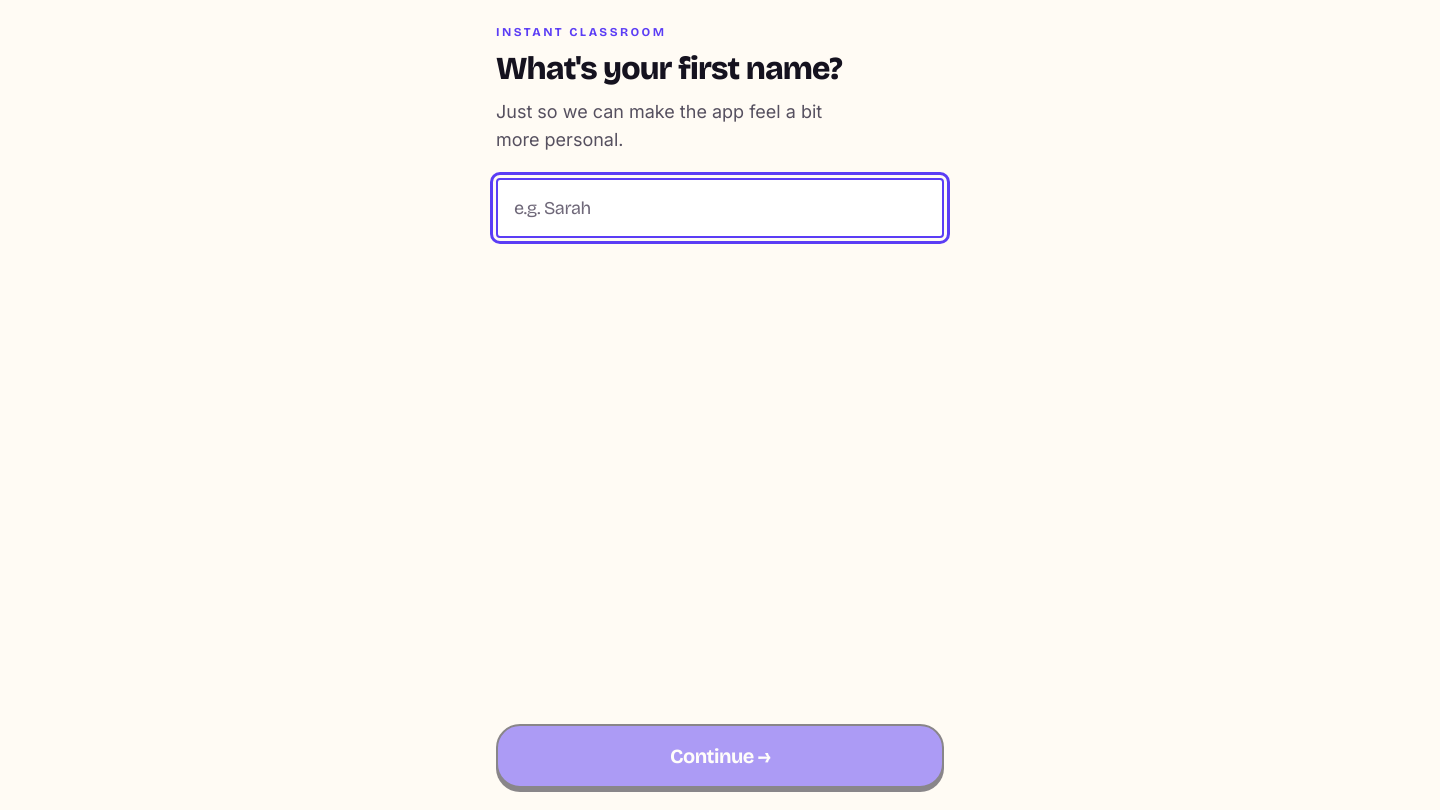
Scenario: HomeScreen › the guided tour › starts the tour on the first tile, without firing an activity
The image size is (1440, 810).
Type "Sarah" into the field named "First name".
click(720, 208); type("Sarah")  # box [496, 178, 944, 238]
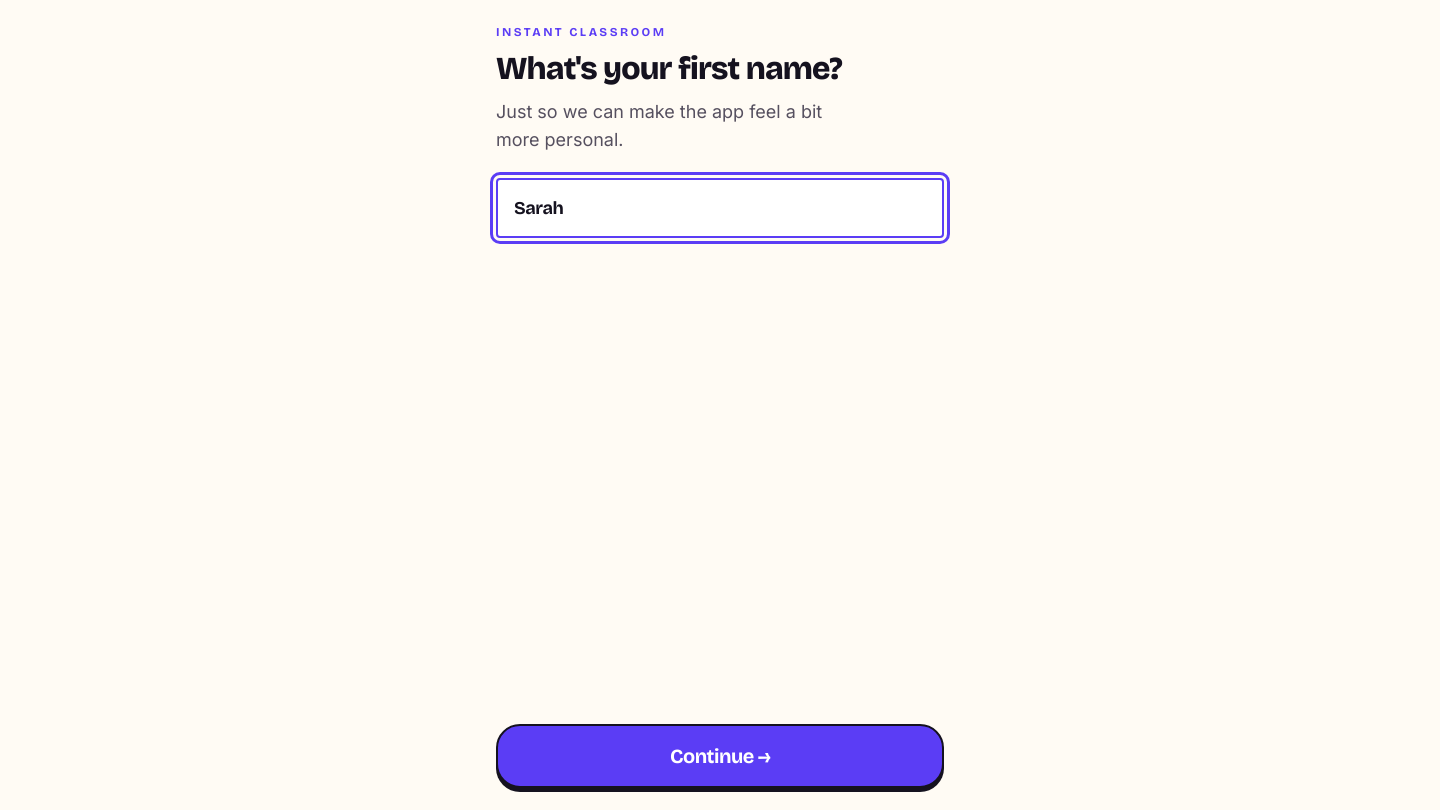
Click the button "Continue →".
click(720, 756)  # box [496, 724, 944, 788]
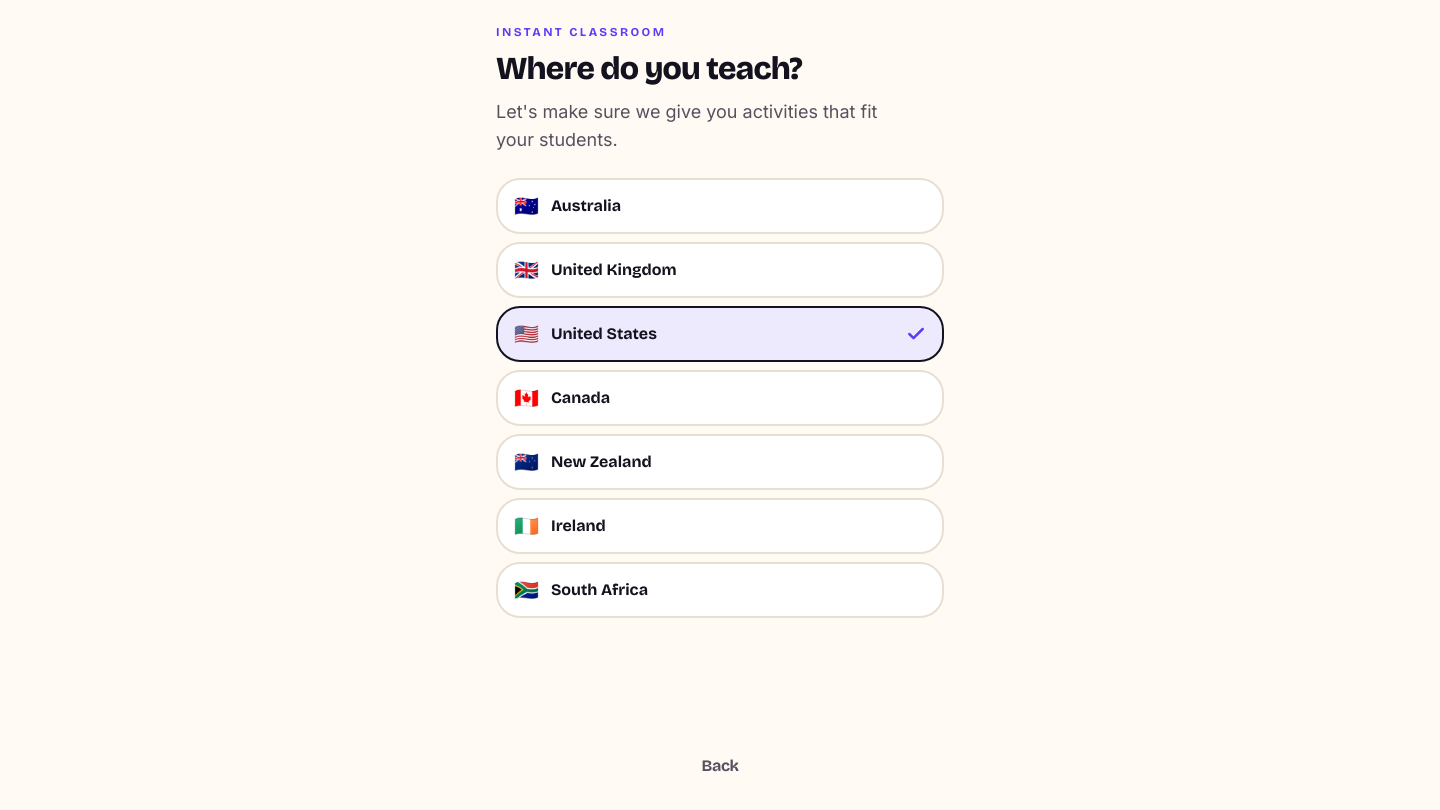
Click the button "🇦🇺 Australia".
click(586, 205)  # box [496, 178, 944, 234]
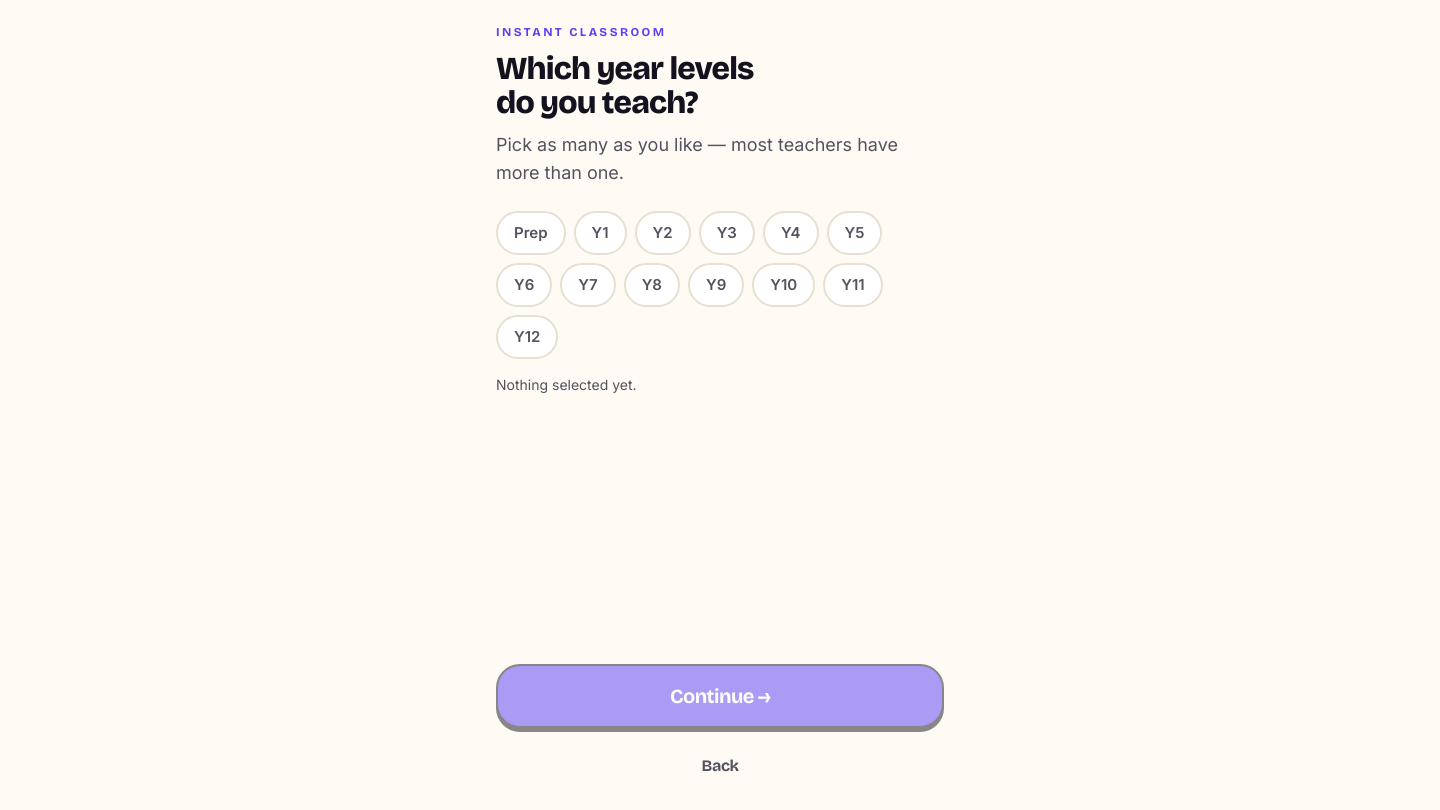
Click the button "Prep".
click(531, 233)  # box [496, 211, 566, 255]
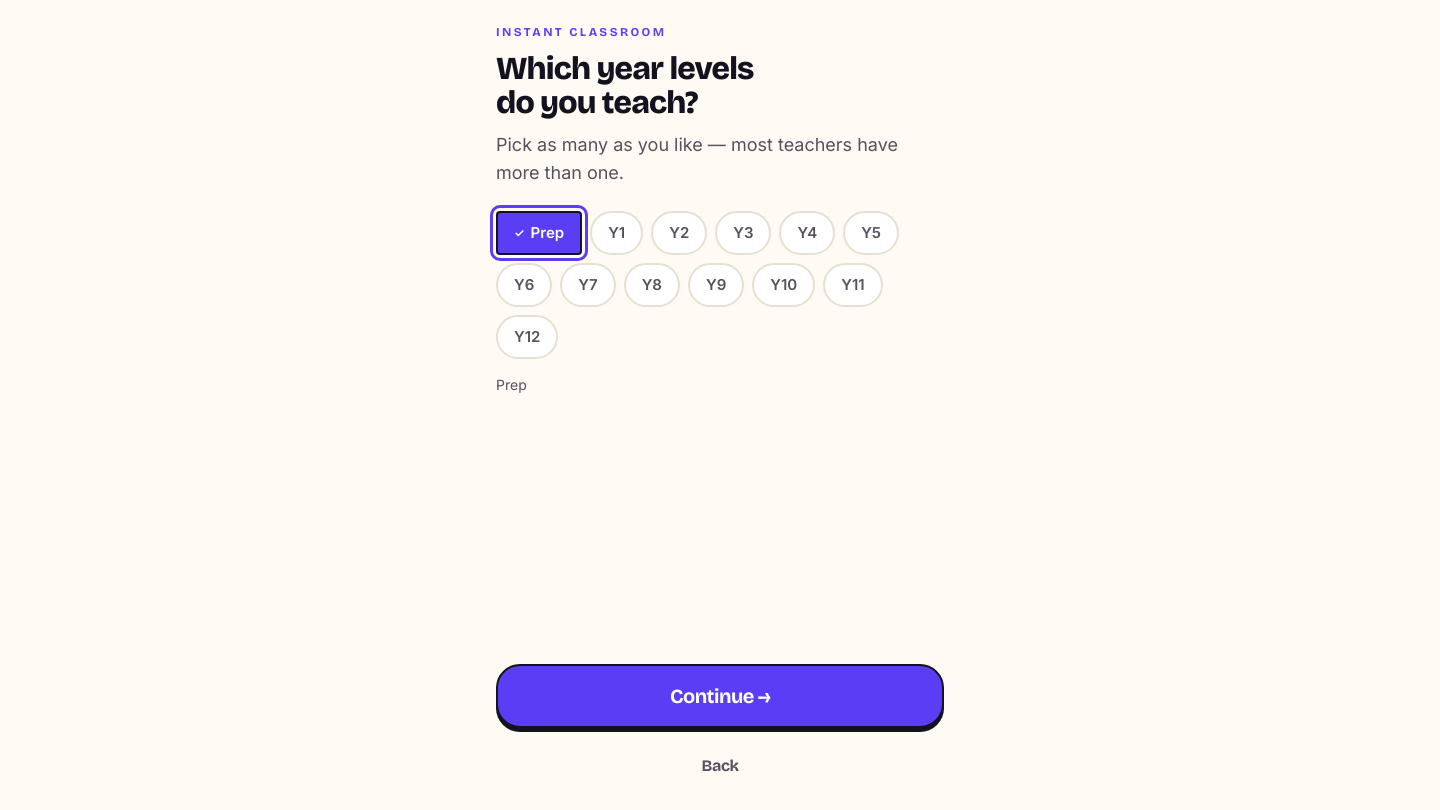
Click the button "Continue →".
click(720, 696)  # box [496, 664, 944, 728]
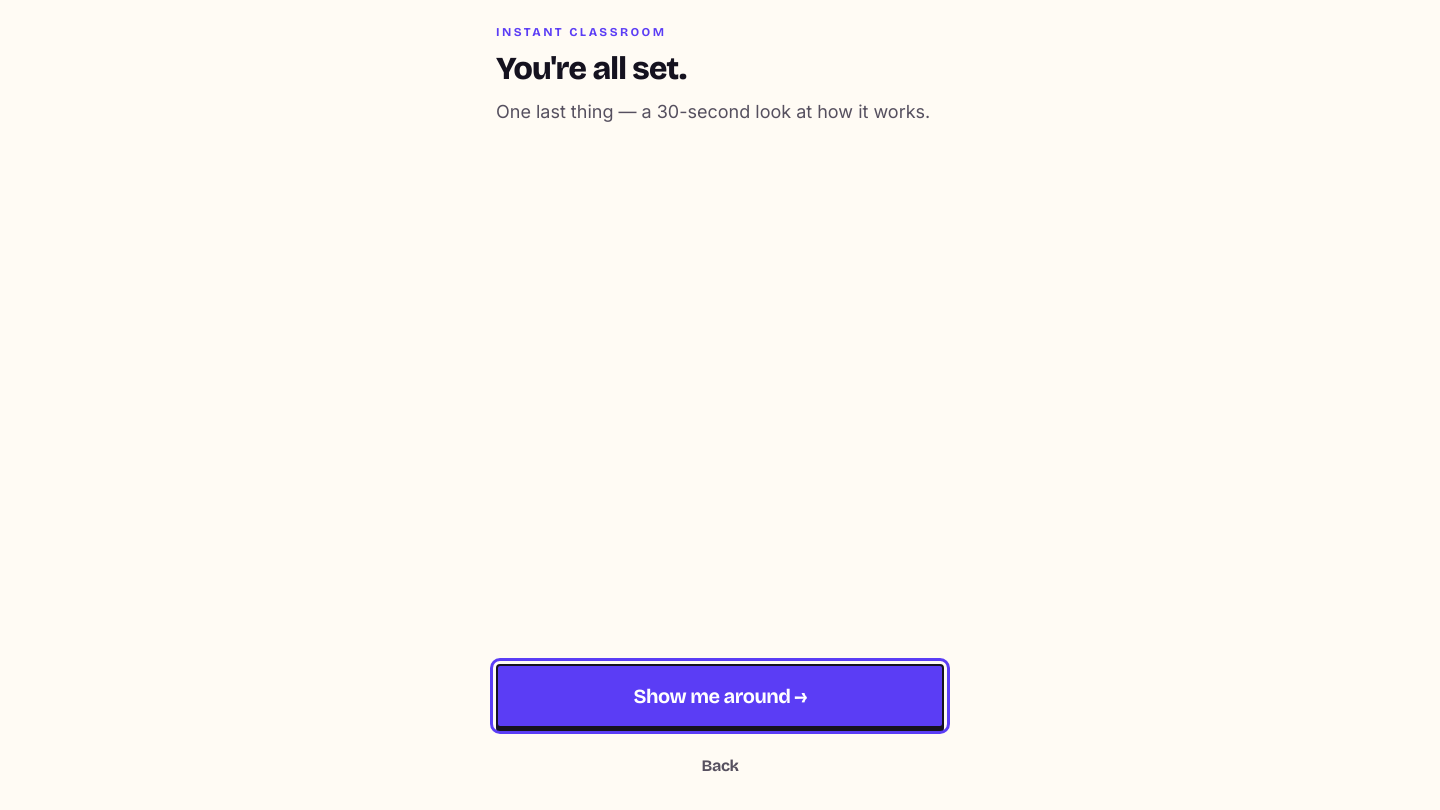
Click the button "Show me around →".
click(720, 696)  # box [496, 664, 944, 728]
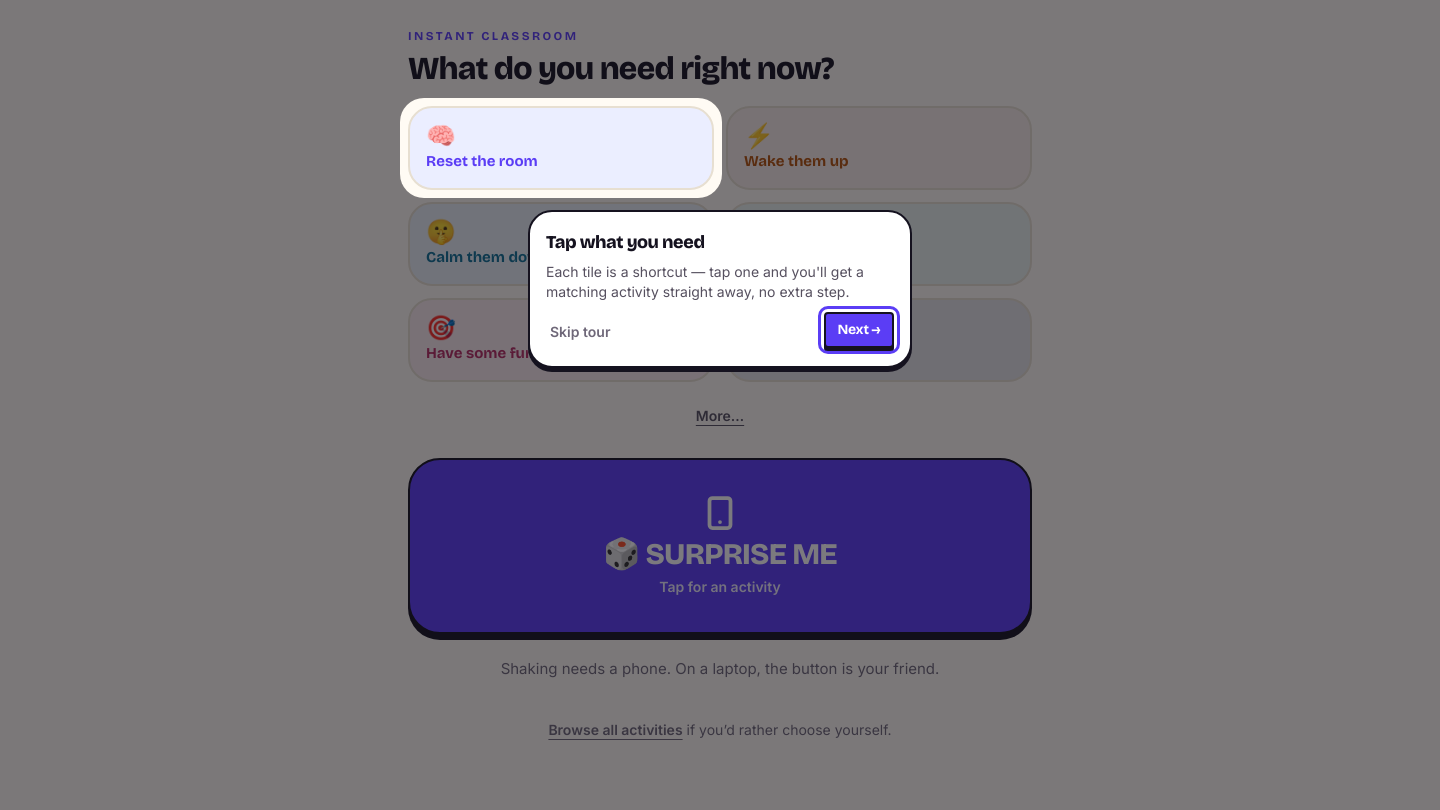
Check: the text "Tap what you need" is shown, box [546, 231, 705, 253]
